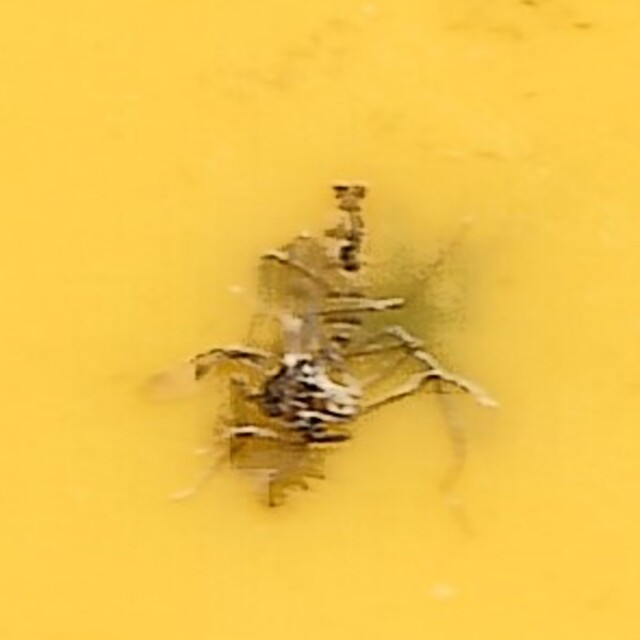Nematocera: (217, 174, 423, 466)
